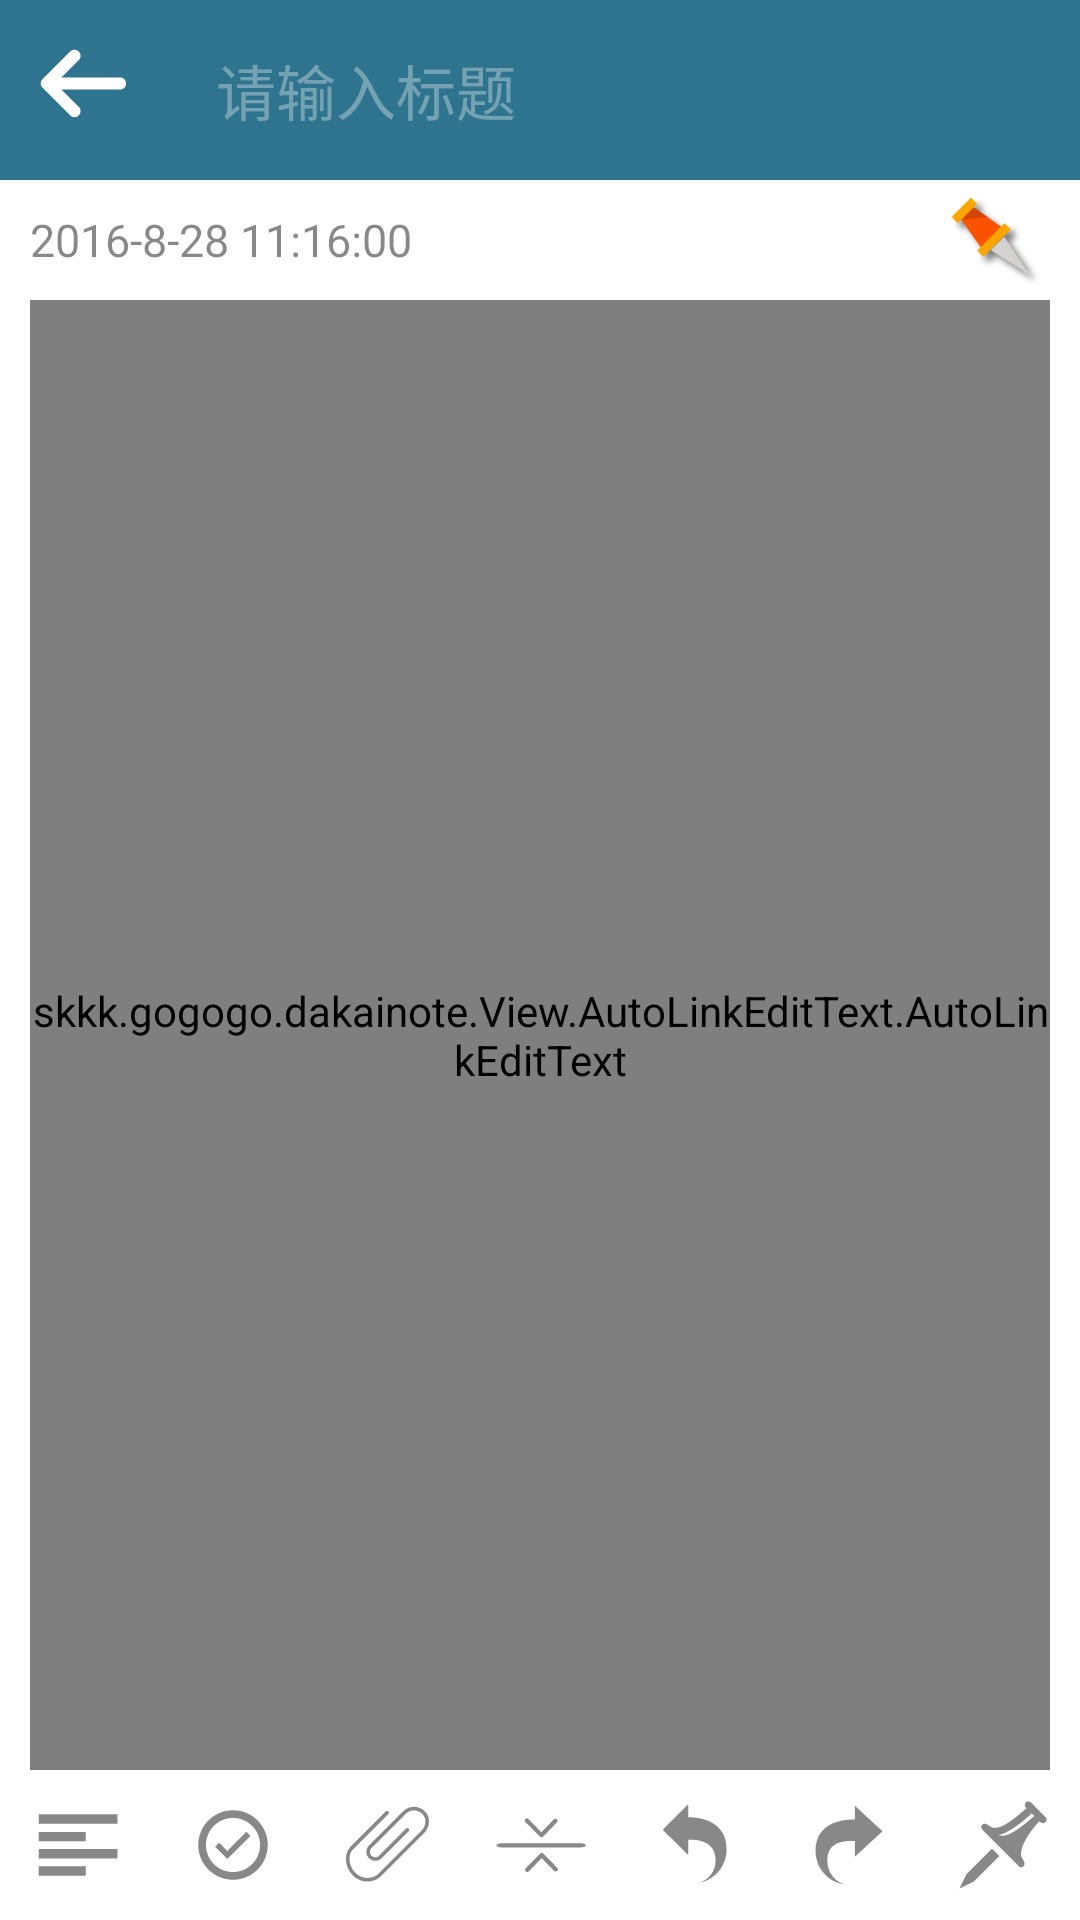

Icon bounding boxes for this 1080 x 1920 phone screenshot, format [x1=x1, y1=y1, x2=x2, y2=y2]:
bottom next: [x1=815, y1=1806, x2=882, y2=1884]
bottom perious: [x1=663, y1=1805, x2=727, y2=1883]
bottom pin: [x1=960, y1=1801, x2=1047, y2=1888]
check bottom: [x1=198, y1=1810, x2=268, y2=1880]
enclosure: [x1=346, y1=1806, x2=429, y2=1882]
gravity left: [x1=38, y1=1814, x2=118, y2=1876]
item pin: [x1=951, y1=197, x2=1034, y2=279]
separate: [x1=496, y1=1818, x2=586, y2=1872]
